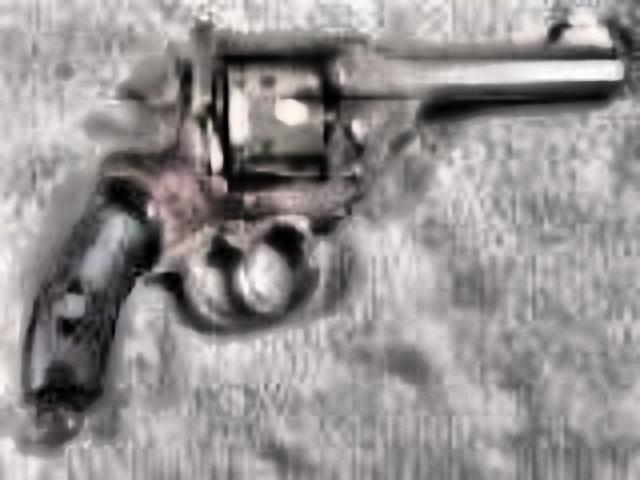pistol: (16, 8, 616, 408)
